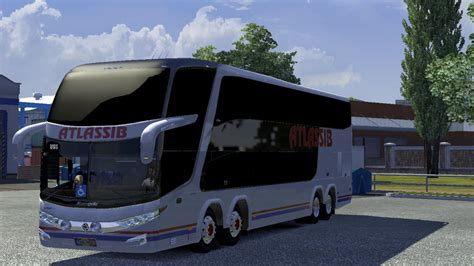bus: (39, 59, 353, 253)
